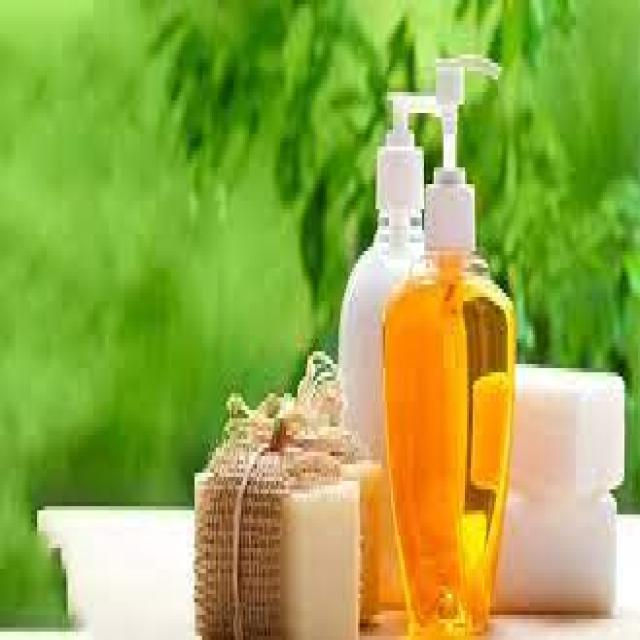liquid soap: (379, 39, 520, 640), (327, 90, 441, 616)
